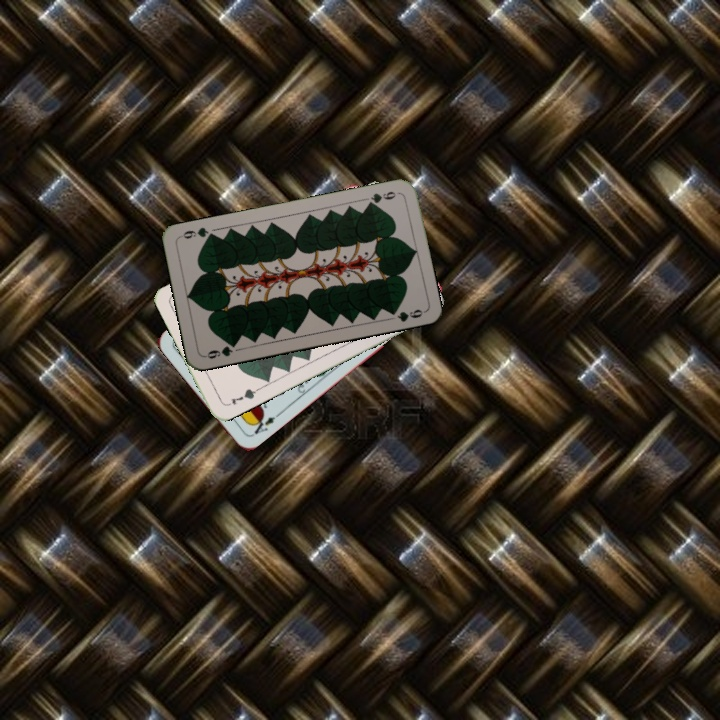EA: (247, 409, 282, 437)
G7: (222, 385, 260, 409)
G9: (201, 338, 240, 361), (363, 187, 398, 209)
